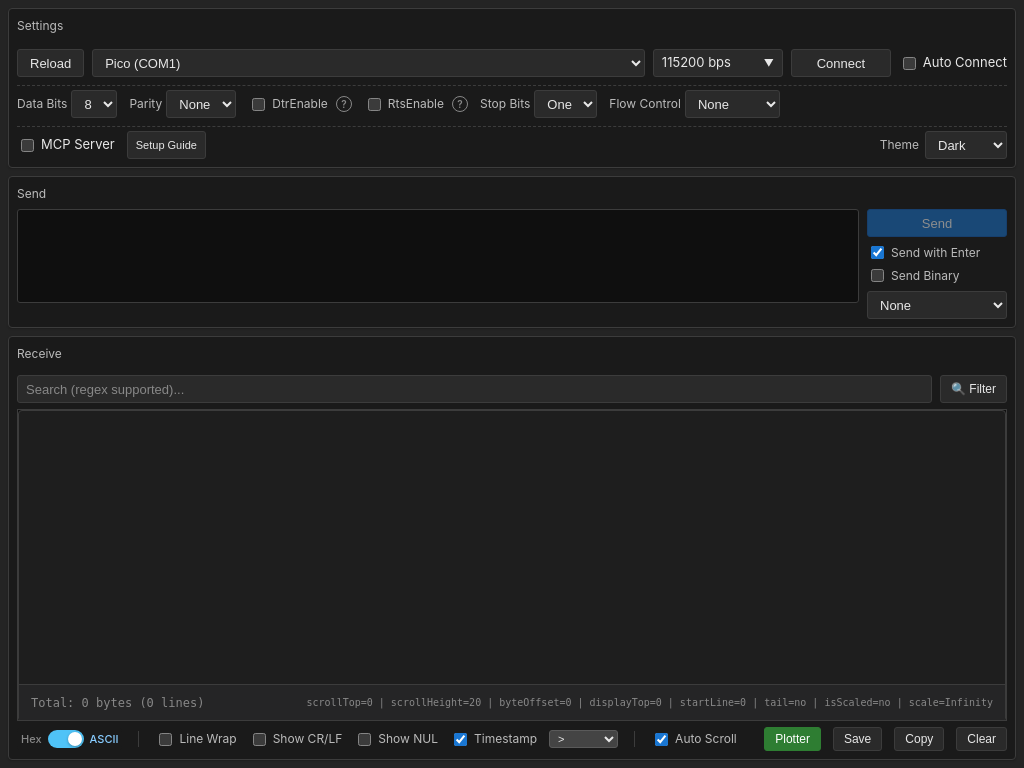
Test: App › auto connect › waits for the lost device without a blocking alert
Click the button "Connect": click(841, 63) left=791, top=49, right=891, bottom=77
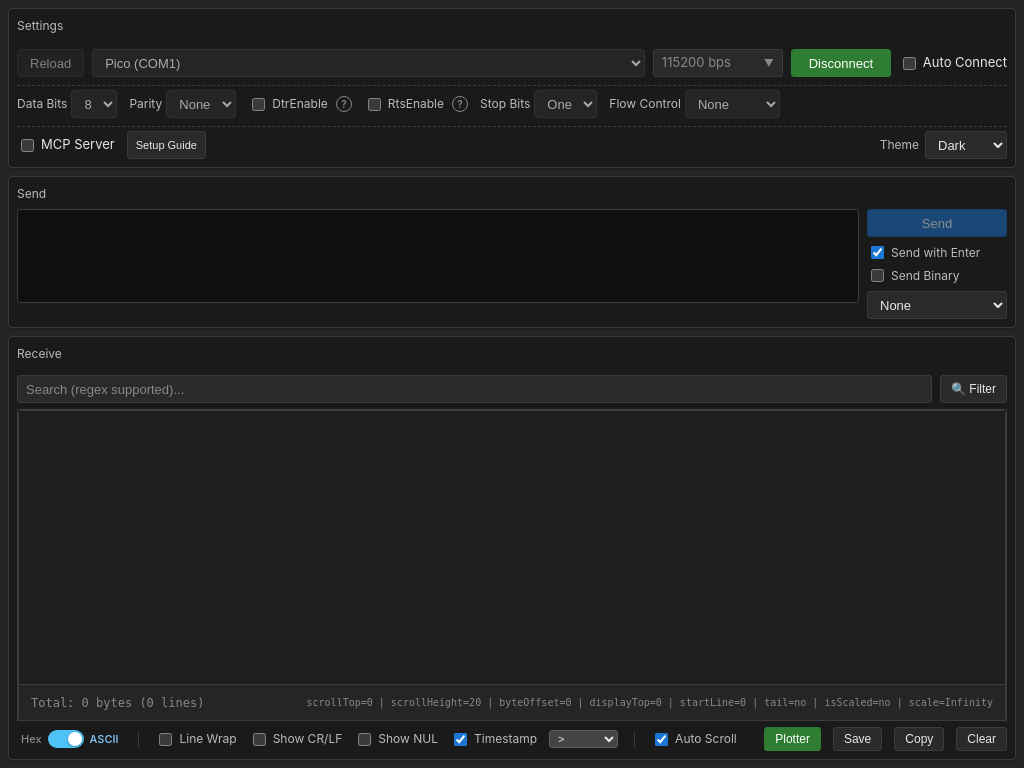
Click the checkbox labelled "Auto Connect": click(909, 63) left=903, top=56, right=916, bottom=70
Wait 2000 ms
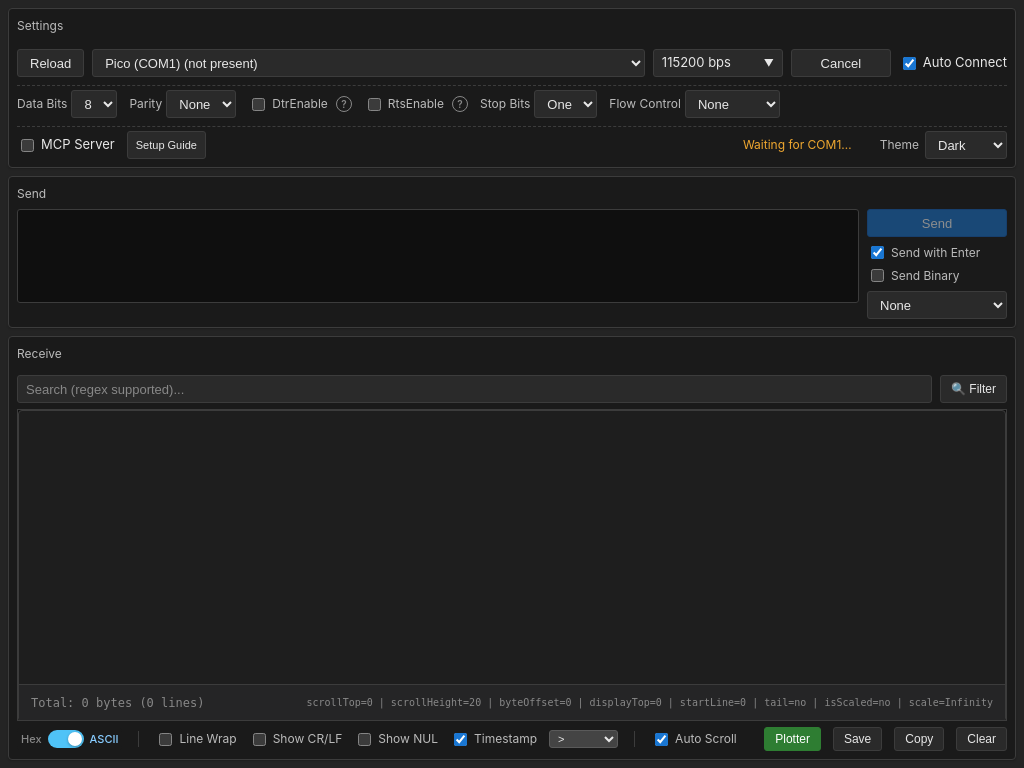
Expected: the message reads "Waiting for COM1…", left=743, top=136, right=852, bottom=154
Expected: the button "Cancel" is shown, left=791, top=49, right=891, bottom=77
Expected: the dropdown named "Port" shows "Pico (COM1) (not present)", left=92, top=49, right=645, bottom=77
